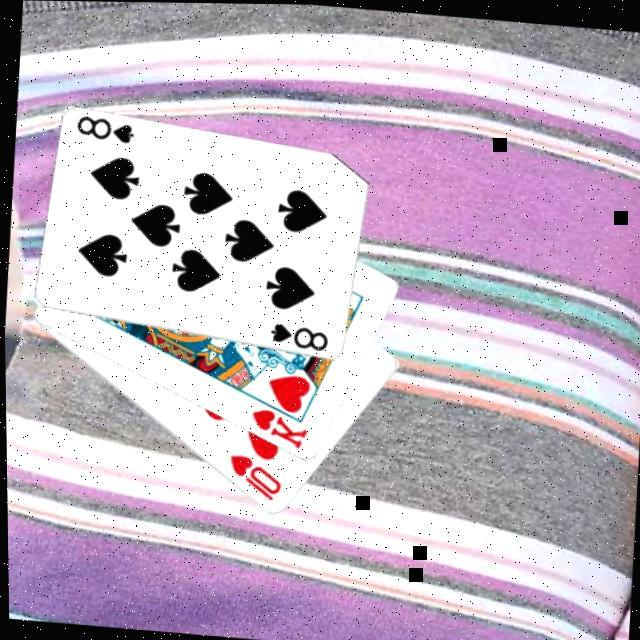10H: (220, 450, 282, 505)
8S: (71, 112, 136, 148), (262, 320, 328, 354)
KH: (242, 405, 308, 452)
